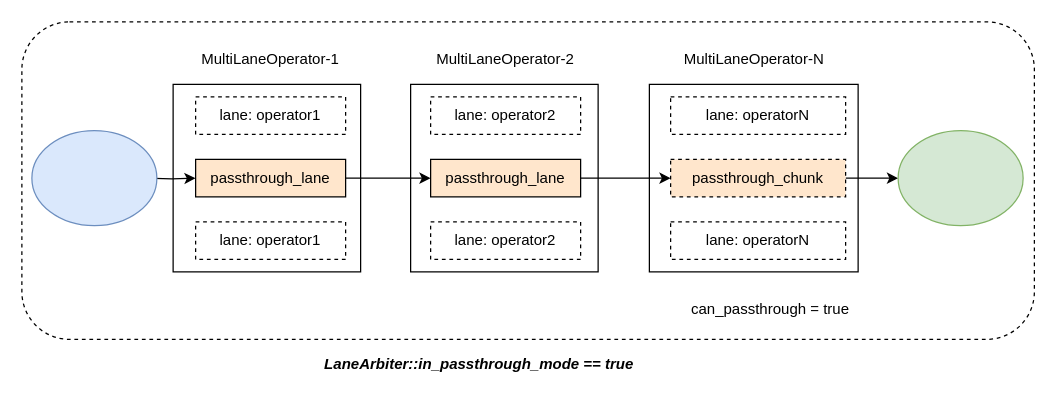
This 1056x399 diagram has some shape labels left out. The box of each missing label's shape, as (x1, y1, x2, y2) in pixels:
CacheOperator: (897, 129, 1023, 226)
ScanOperator: (31, 129, 157, 226)
